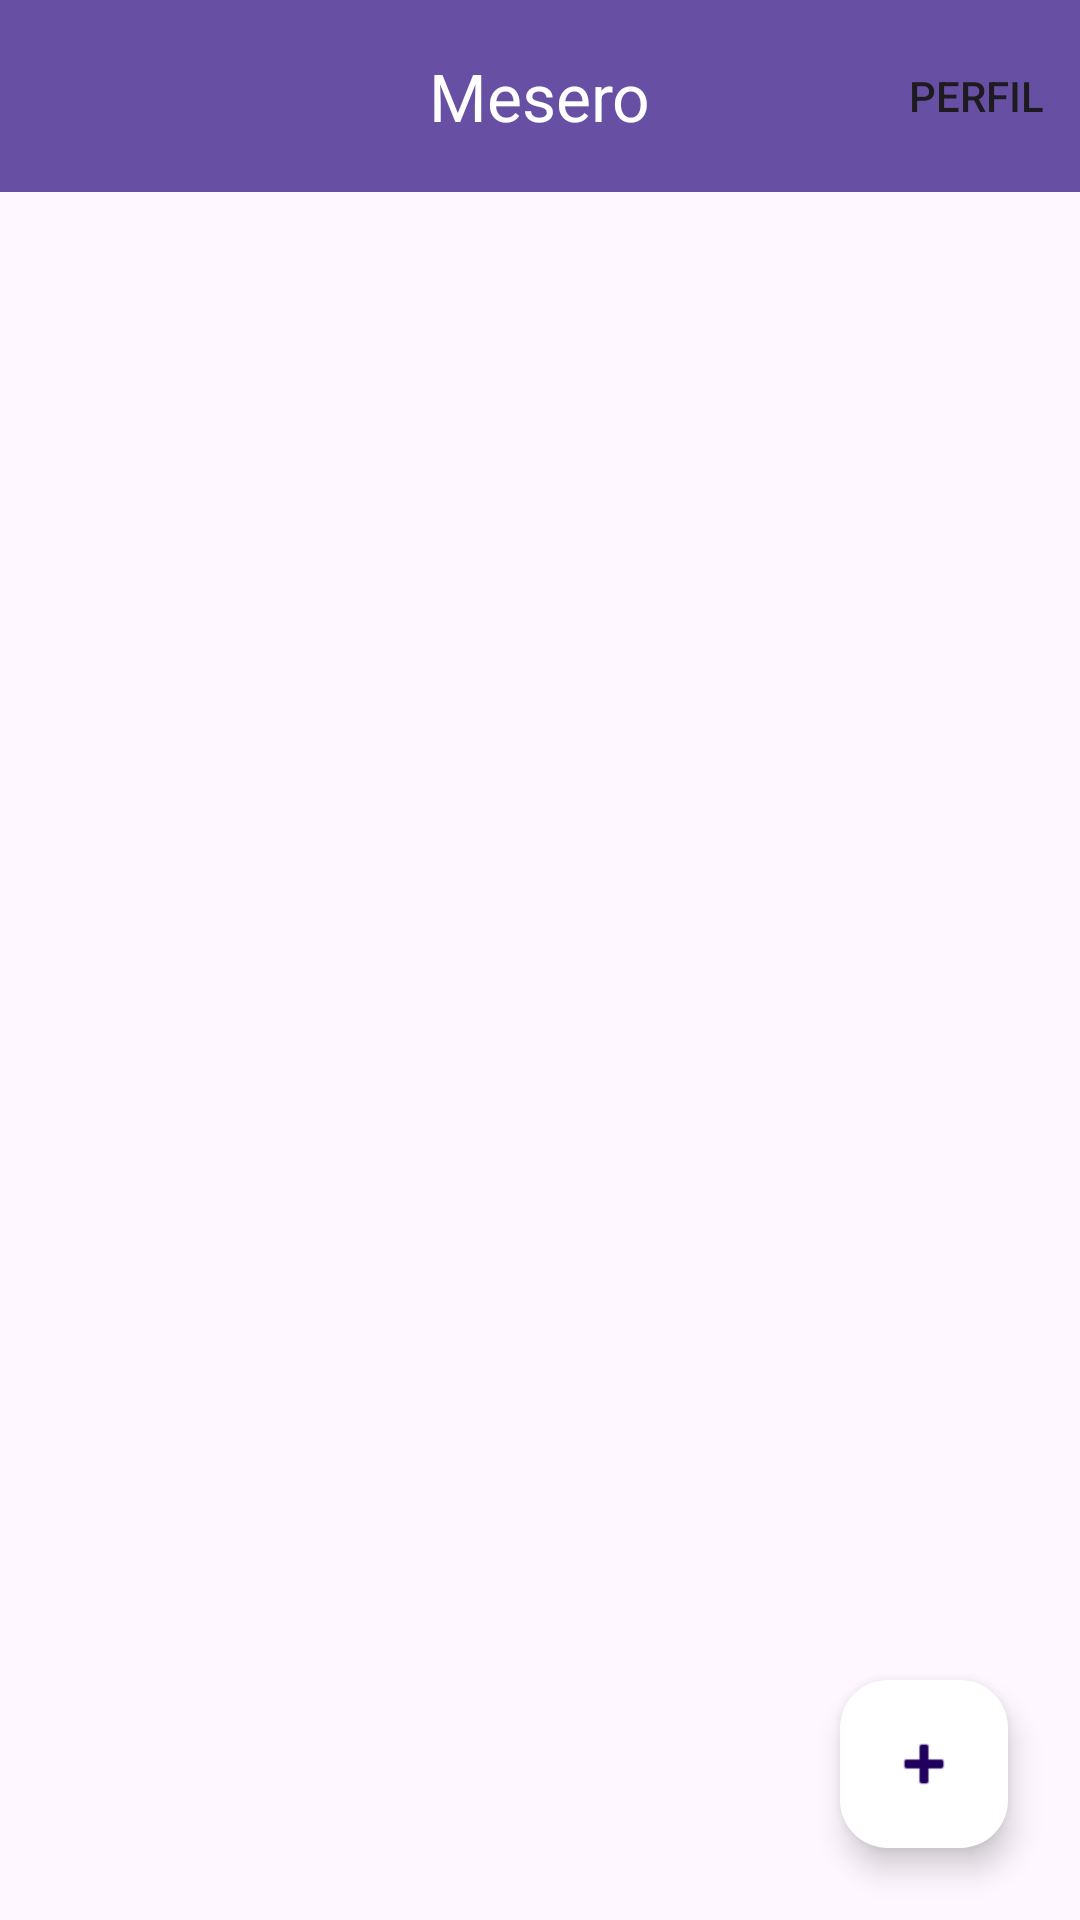

Where to tap for icons on this 1080 x 1920 app screen, as (x=x, y=y):
Nuevo Pedido: (x=924, y=1764)
